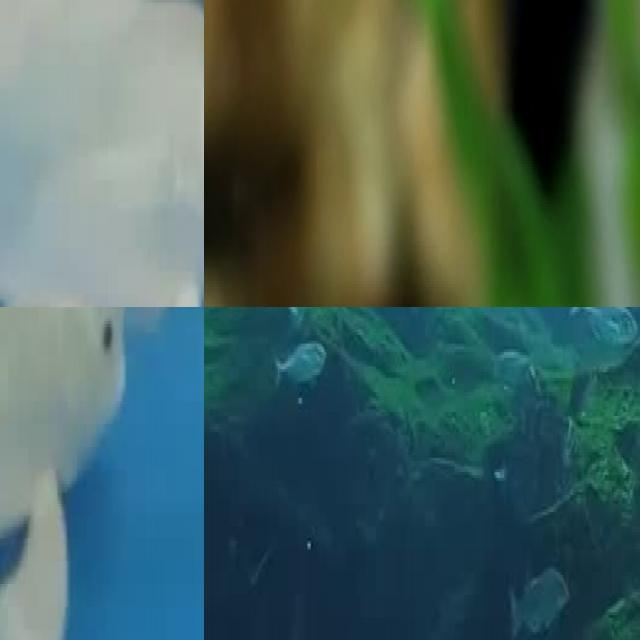fish: (0, 0, 204, 307), (0, 307, 147, 640)
